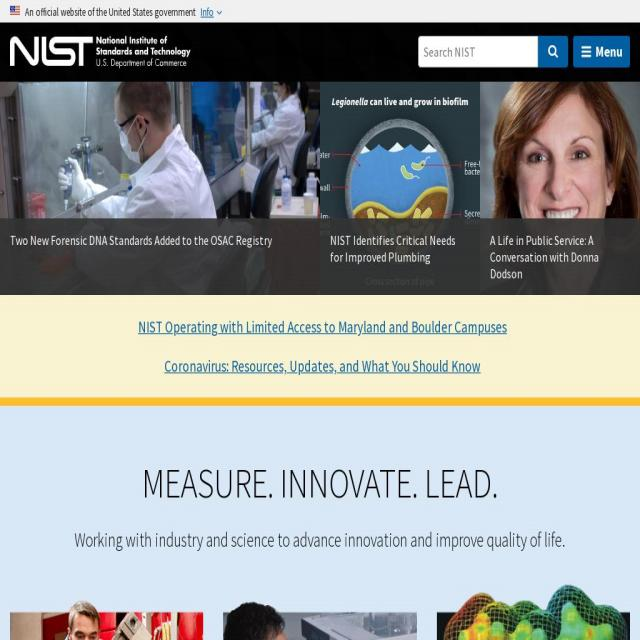options: (572, 36, 638, 72)
search: (419, 35, 571, 78)
